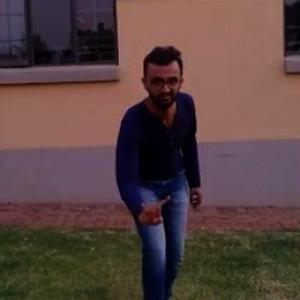takeoff-hand: (133, 181, 173, 233)
